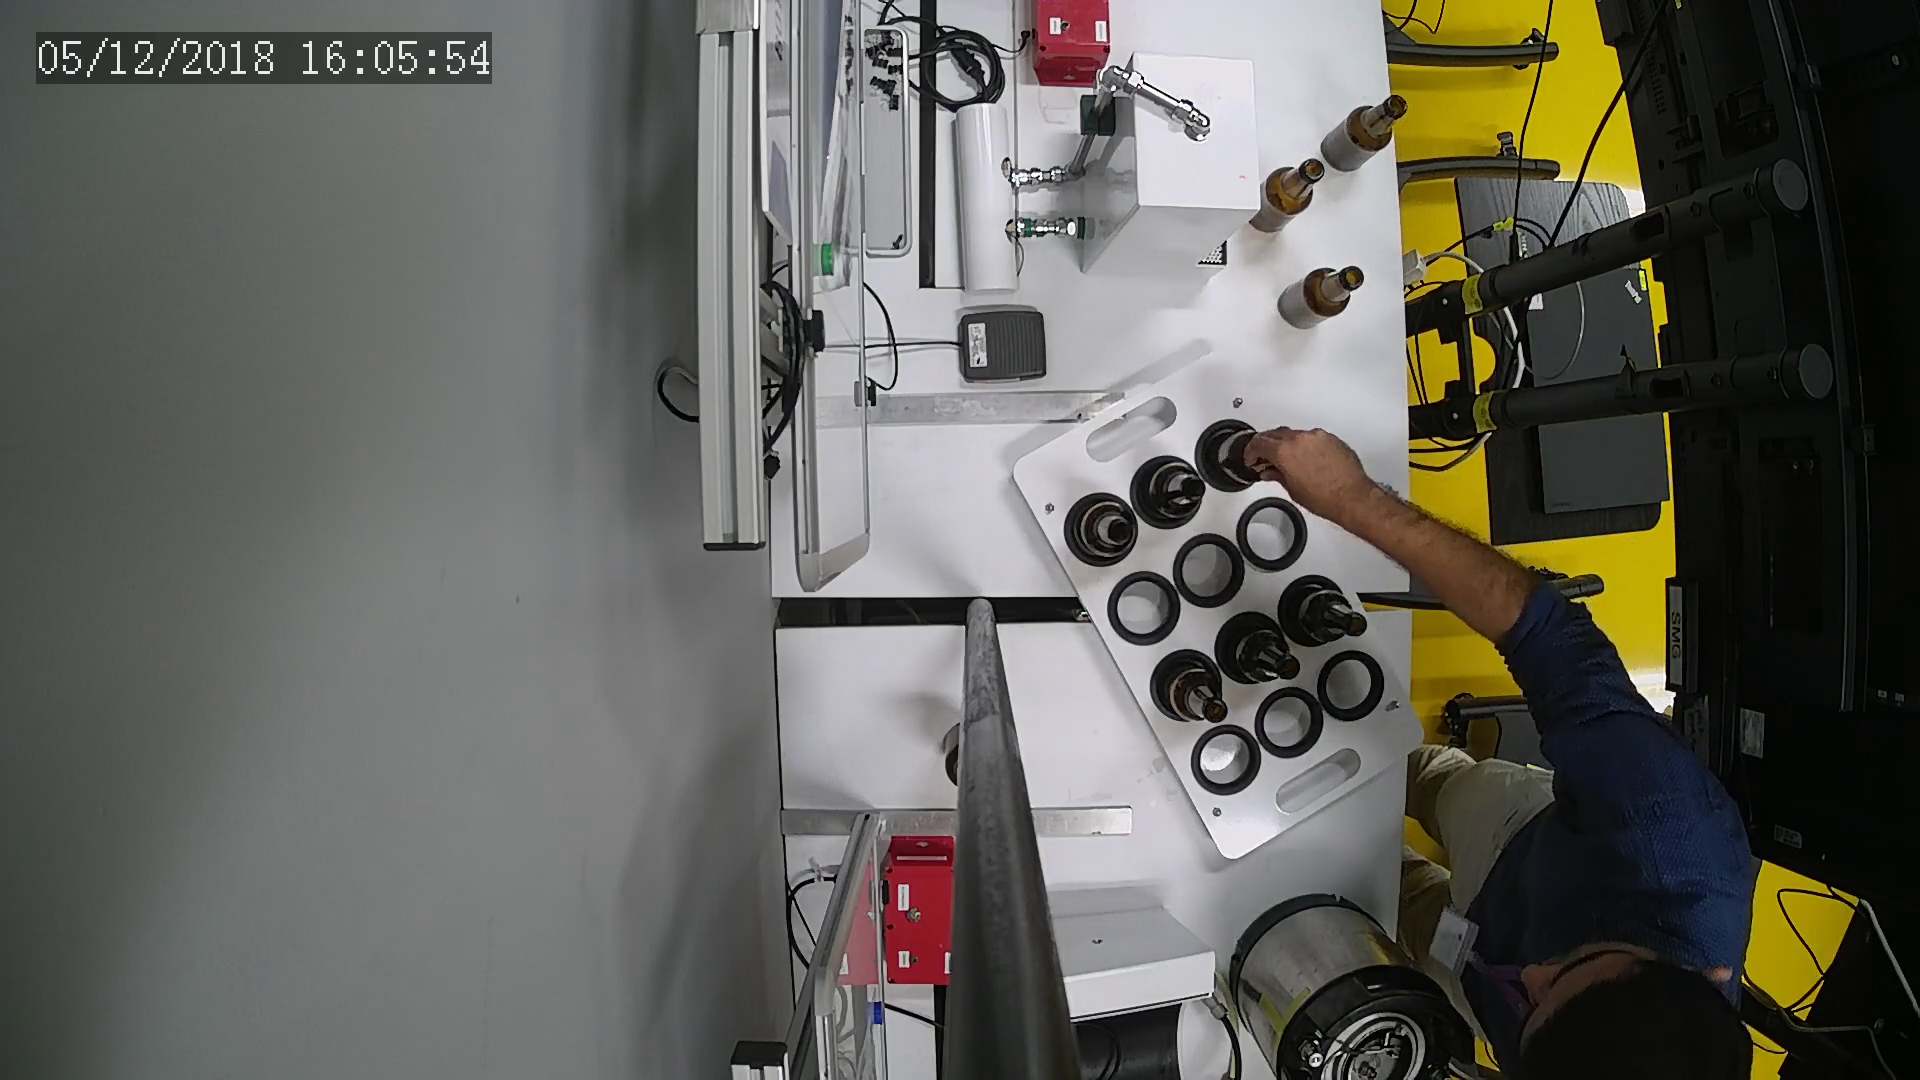filled_bottle: (1151, 649, 1236, 732), (1280, 578, 1367, 651), (1224, 615, 1308, 688), (1131, 455, 1208, 530), (1069, 491, 1143, 564)
trolley: (1007, 345, 1425, 858)
unfilled_bottle: (1317, 90, 1404, 171), (1276, 265, 1364, 330), (1251, 161, 1323, 233)
